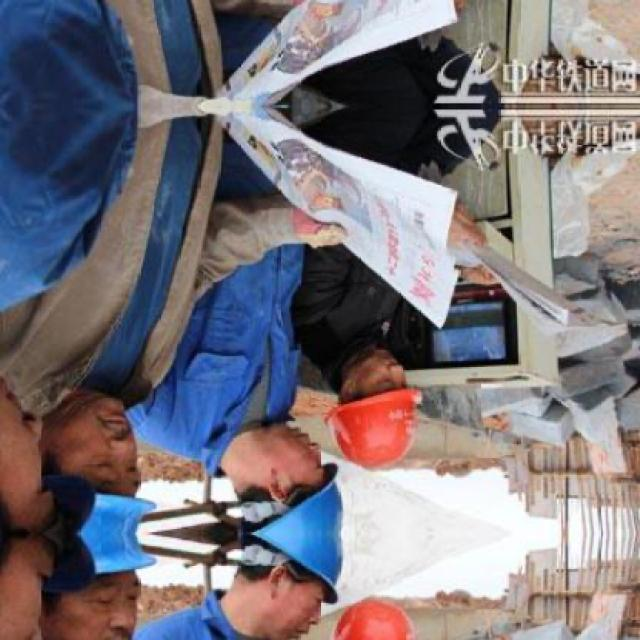con casco: (20, 415, 173, 572), (304, 336, 466, 482), (232, 426, 334, 541)
